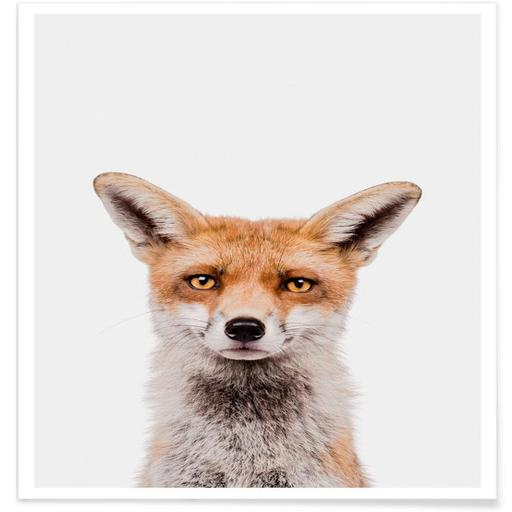Fox: (89, 164, 426, 485)
